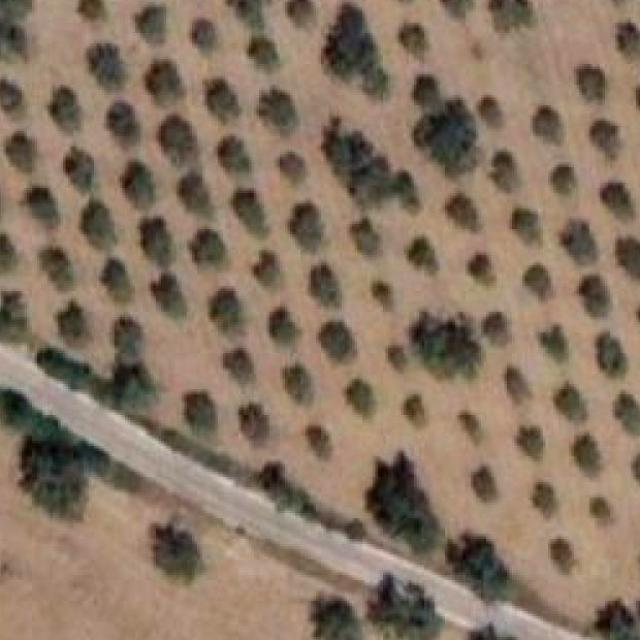Tree: (324, 121, 416, 206), (365, 454, 445, 551), (16, 436, 90, 522), (324, 5, 390, 99), (367, 572, 445, 640), (412, 312, 483, 378), (149, 513, 204, 586), (424, 100, 478, 169), (450, 536, 506, 596), (298, 590, 364, 640), (228, 183, 276, 232), (89, 43, 130, 96), (148, 268, 190, 318), (205, 286, 247, 334), (256, 90, 299, 136), (134, 0, 172, 51), (0, 0, 32, 60), (52, 298, 88, 350), (200, 72, 238, 121), (42, 242, 87, 283), (176, 169, 212, 219), (236, 400, 272, 450), (290, 201, 325, 252), (182, 389, 218, 438), (404, 229, 442, 274), (280, 362, 317, 408), (218, 131, 254, 178), (46, 90, 84, 134), (161, 114, 195, 163), (99, 100, 136, 145), (4, 128, 41, 172), (350, 216, 387, 260), (268, 304, 304, 349), (84, 198, 116, 248), (61, 143, 96, 188), (192, 229, 227, 274), (594, 599, 636, 636), (562, 222, 598, 265), (530, 98, 562, 146), (140, 214, 174, 259), (321, 317, 358, 358), (144, 61, 180, 101), (252, 248, 287, 289), (491, 0, 532, 35), (110, 315, 144, 357), (123, 157, 154, 203), (598, 332, 628, 379), (0, 288, 26, 342), (345, 377, 380, 417), (412, 74, 447, 114), (225, 345, 258, 387), (25, 183, 57, 225), (445, 193, 479, 232), (304, 420, 338, 459), (274, 150, 310, 186), (579, 276, 610, 317), (579, 57, 610, 98), (490, 150, 520, 192), (311, 264, 344, 302), (571, 434, 600, 475), (192, 16, 223, 54), (556, 382, 586, 421), (246, 31, 274, 72), (592, 121, 620, 162), (522, 266, 552, 302), (104, 260, 130, 301), (0, 232, 23, 278), (615, 392, 640, 434), (540, 326, 569, 362), (0, 82, 31, 114), (368, 272, 397, 306), (74, 0, 110, 27), (512, 209, 539, 245), (602, 183, 628, 219), (507, 367, 532, 403), (474, 467, 499, 502), (484, 312, 510, 345), (517, 428, 542, 462), (618, 240, 640, 278), (402, 398, 428, 430), (402, 22, 426, 56), (287, 0, 316, 28), (383, 340, 410, 370), (551, 166, 577, 197), (479, 95, 504, 127), (551, 539, 572, 575), (618, 22, 640, 56), (469, 253, 492, 285), (533, 482, 554, 516), (445, 0, 481, 17), (590, 498, 611, 526), (633, 451, 640, 485), (636, 84, 640, 118)
